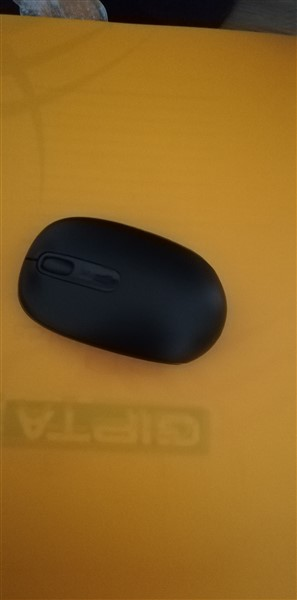mouse: (13, 204, 237, 380)
